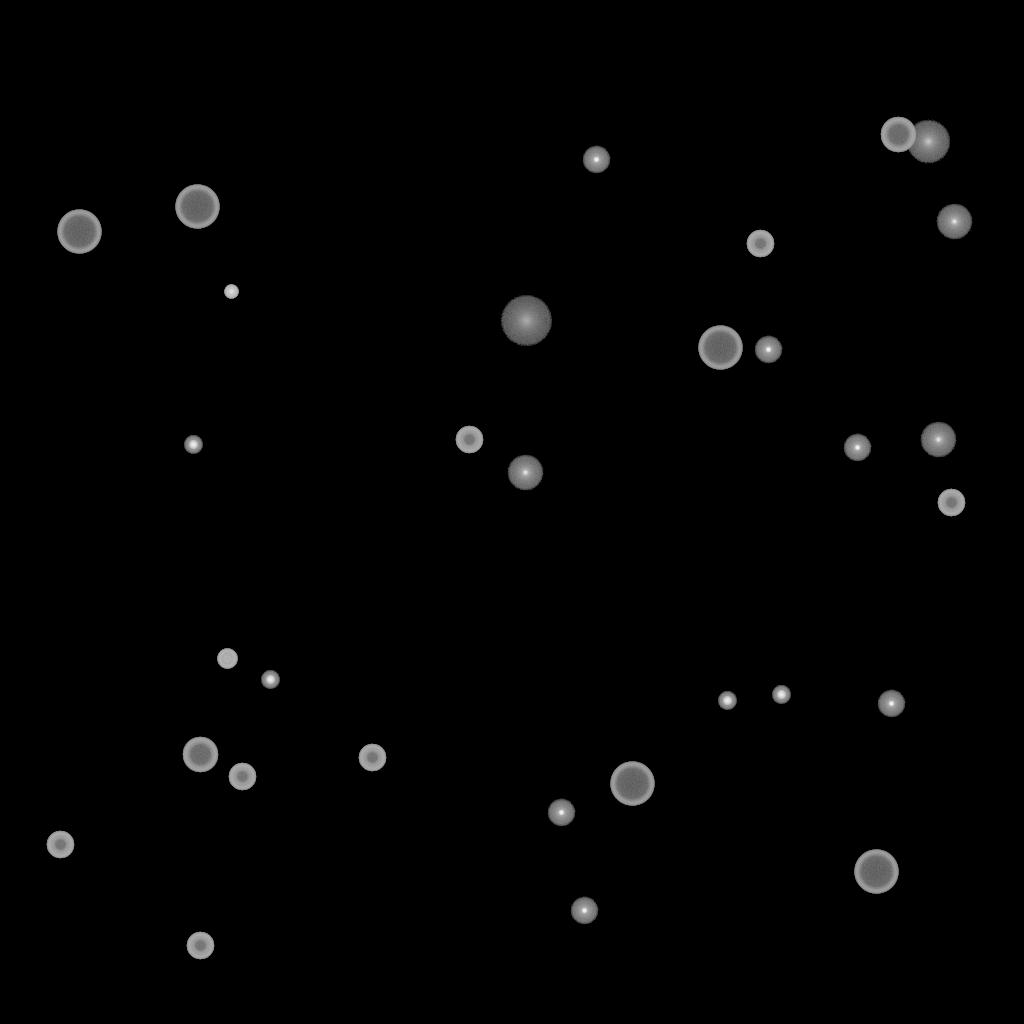depth:-10: (754, 336, 782, 364), (877, 690, 905, 718), (570, 897, 598, 925), (582, 146, 610, 174), (843, 434, 871, 462), (547, 799, 575, 827)
depth:-20: (261, 671, 279, 689), (718, 692, 736, 710), (772, 686, 790, 704), (184, 436, 202, 454)
depth:-30: (224, 285, 238, 299)
depth:-40: (217, 649, 237, 669)
depth:-50: (746, 230, 774, 258), (937, 489, 965, 517), (358, 744, 386, 772), (46, 831, 74, 859), (228, 763, 256, 791), (186, 932, 214, 960), (455, 426, 483, 454)
depth:-60: (182, 737, 218, 773), (880, 117, 916, 153)
depth:-70: (698, 326, 742, 370), (610, 762, 654, 806), (57, 210, 101, 254), (175, 185, 219, 229), (854, 850, 898, 894)
depth:0: (936, 204, 972, 240), (507, 455, 543, 491), (920, 422, 956, 458)
depth:10: (906, 120, 950, 164)
depth:20: (500, 296, 552, 346)
